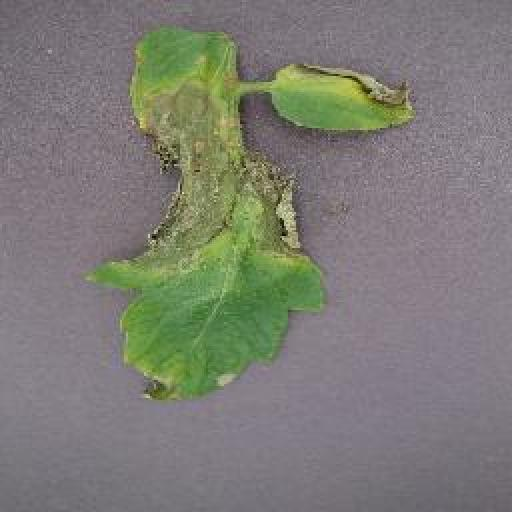Late Blight: (84, 27, 327, 404), (268, 60, 415, 139)
